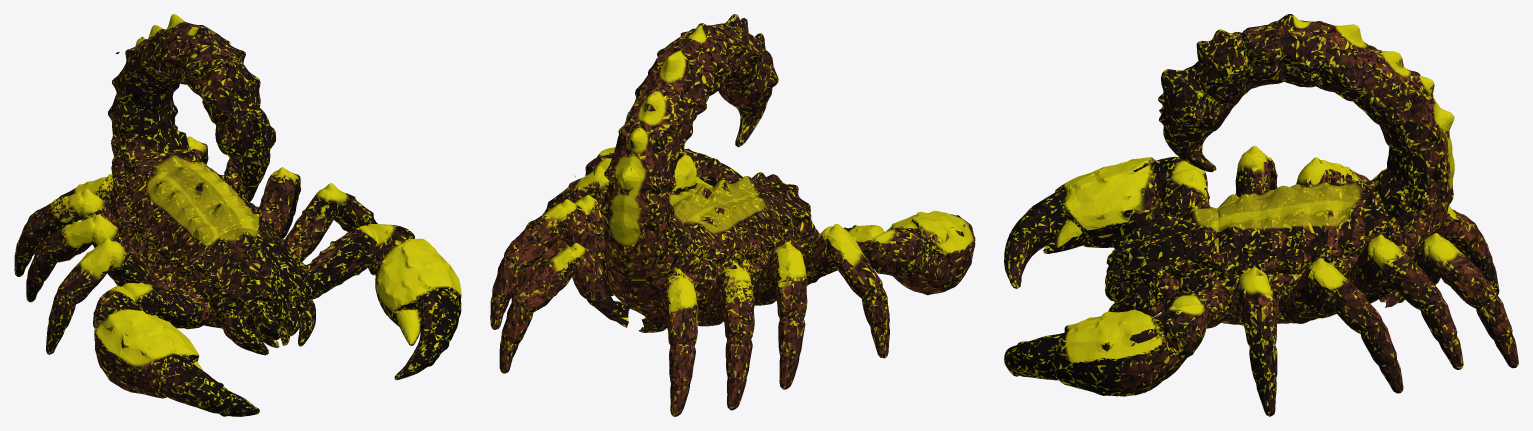
File: escorpião_amarelo.glb
3 renders of one model, left to right at view 1: azimuth 30°, elevation 25°; view 2: azimuth 150°, elevation 25°; view 3: azimuth 270°, elevation 25°, orthographic. The views are drawn at different scales.
Parts seen in each view (by area): view 1: tmp4utfgyb2.ply; view 2: tmp4utfgyb2.ply; view 3: tmp4utfgyb2.ply.
Boxes of the visible parts, x1,y1,x2,y2 form: tmp4utfgyb2.ply: [14, 14, 461, 416]; tmp4utfgyb2.ply: [490, 14, 975, 416]; tmp4utfgyb2.ply: [1004, 14, 1518, 416].
Bounding box in the file's own units: 1.93 × 1.53 × 2.23.
1 material, 1 textured.
